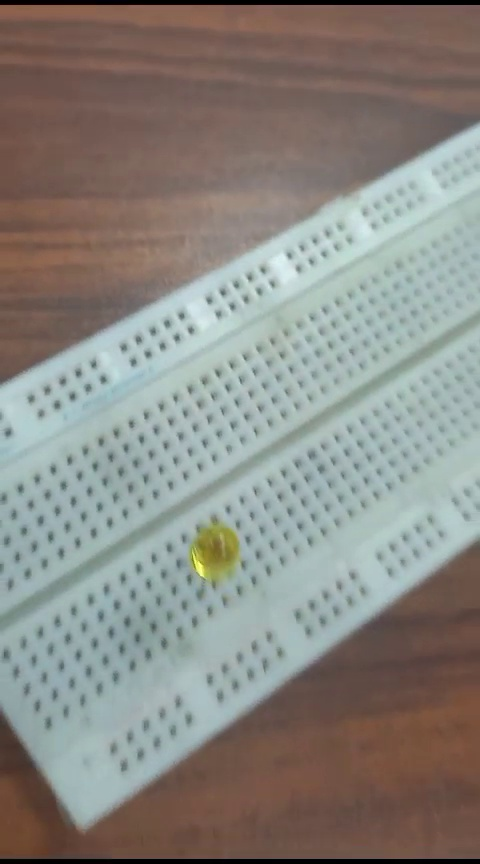LED: (176, 519, 240, 588)
